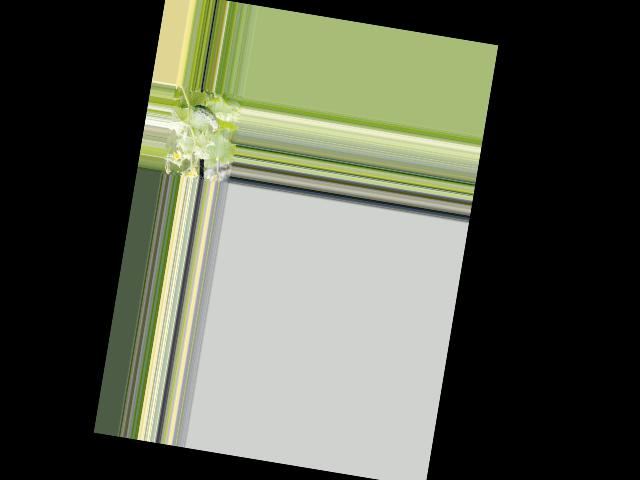cucumber: (189, 104, 221, 132)
